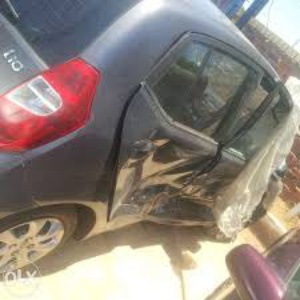door: (140, 133, 223, 222)
